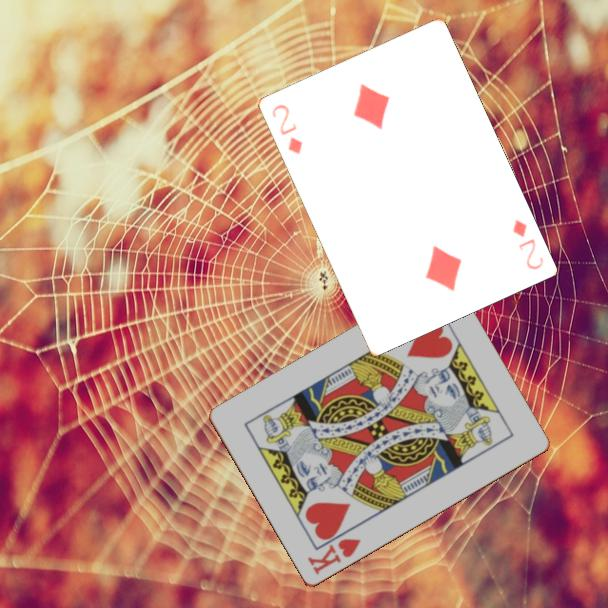d02: (268, 101, 305, 157), (509, 216, 546, 272)
h13: (304, 535, 364, 578)
